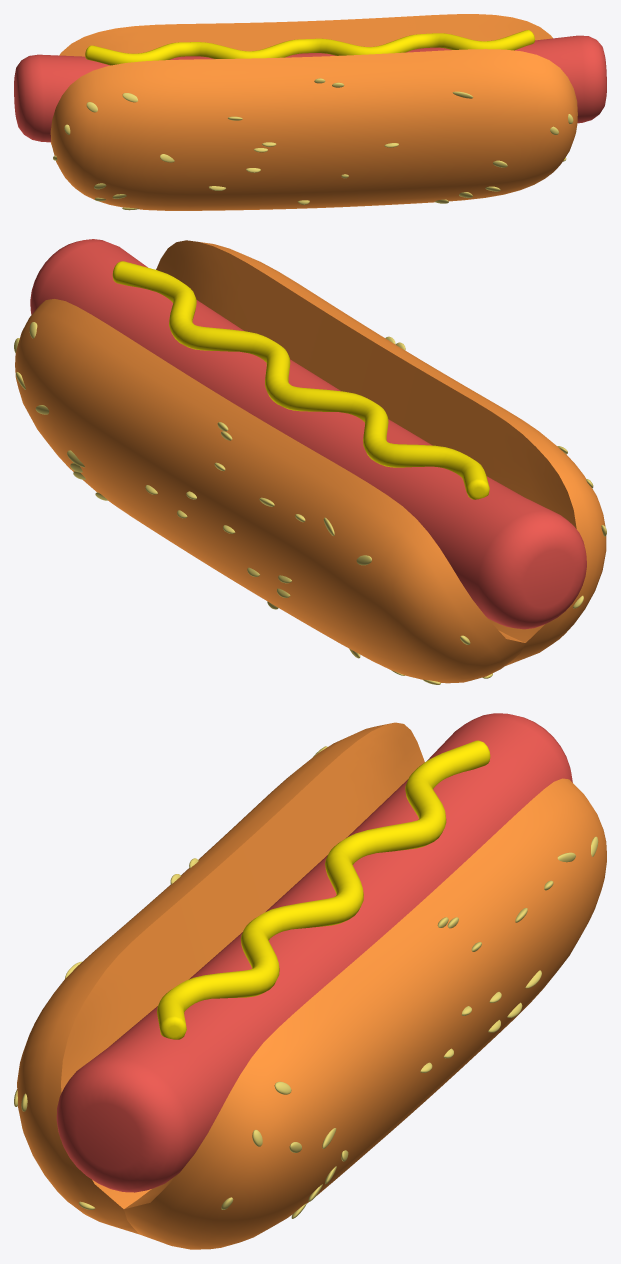
File: hotdog.glb
3 renders of one model, top to bottom at view 1: azimuth 30°, elevation 25°; view 2: azimuth 150°, elevation 25°; view 3: azimuth 270°, elevation 25°, orthographic. The views are drawn at different scales.
Visible parts, largest first — view 1: Cube, Cylinder, Cylinder.001; view 2: Cube, Cylinder, Cylinder.001; view 3: Cube, Cylinder, Cylinder.001.
Part boxes in pixels (x1,y1,x2,y2): Cube: (50, 14, 577, 210); Cylinder: (14, 35, 606, 142); Cylinder.001: (85, 30, 534, 65); Cube: (15, 240, 606, 683); Cylinder: (30, 239, 586, 629); Cylinder.001: (112, 261, 489, 499); Cube: (17, 722, 606, 1249); Cylinder: (56, 713, 572, 1192); Cylinder.001: (157, 740, 490, 1039).
Size of the model in its own units: 6.02 by 1.98 by 3.91.
